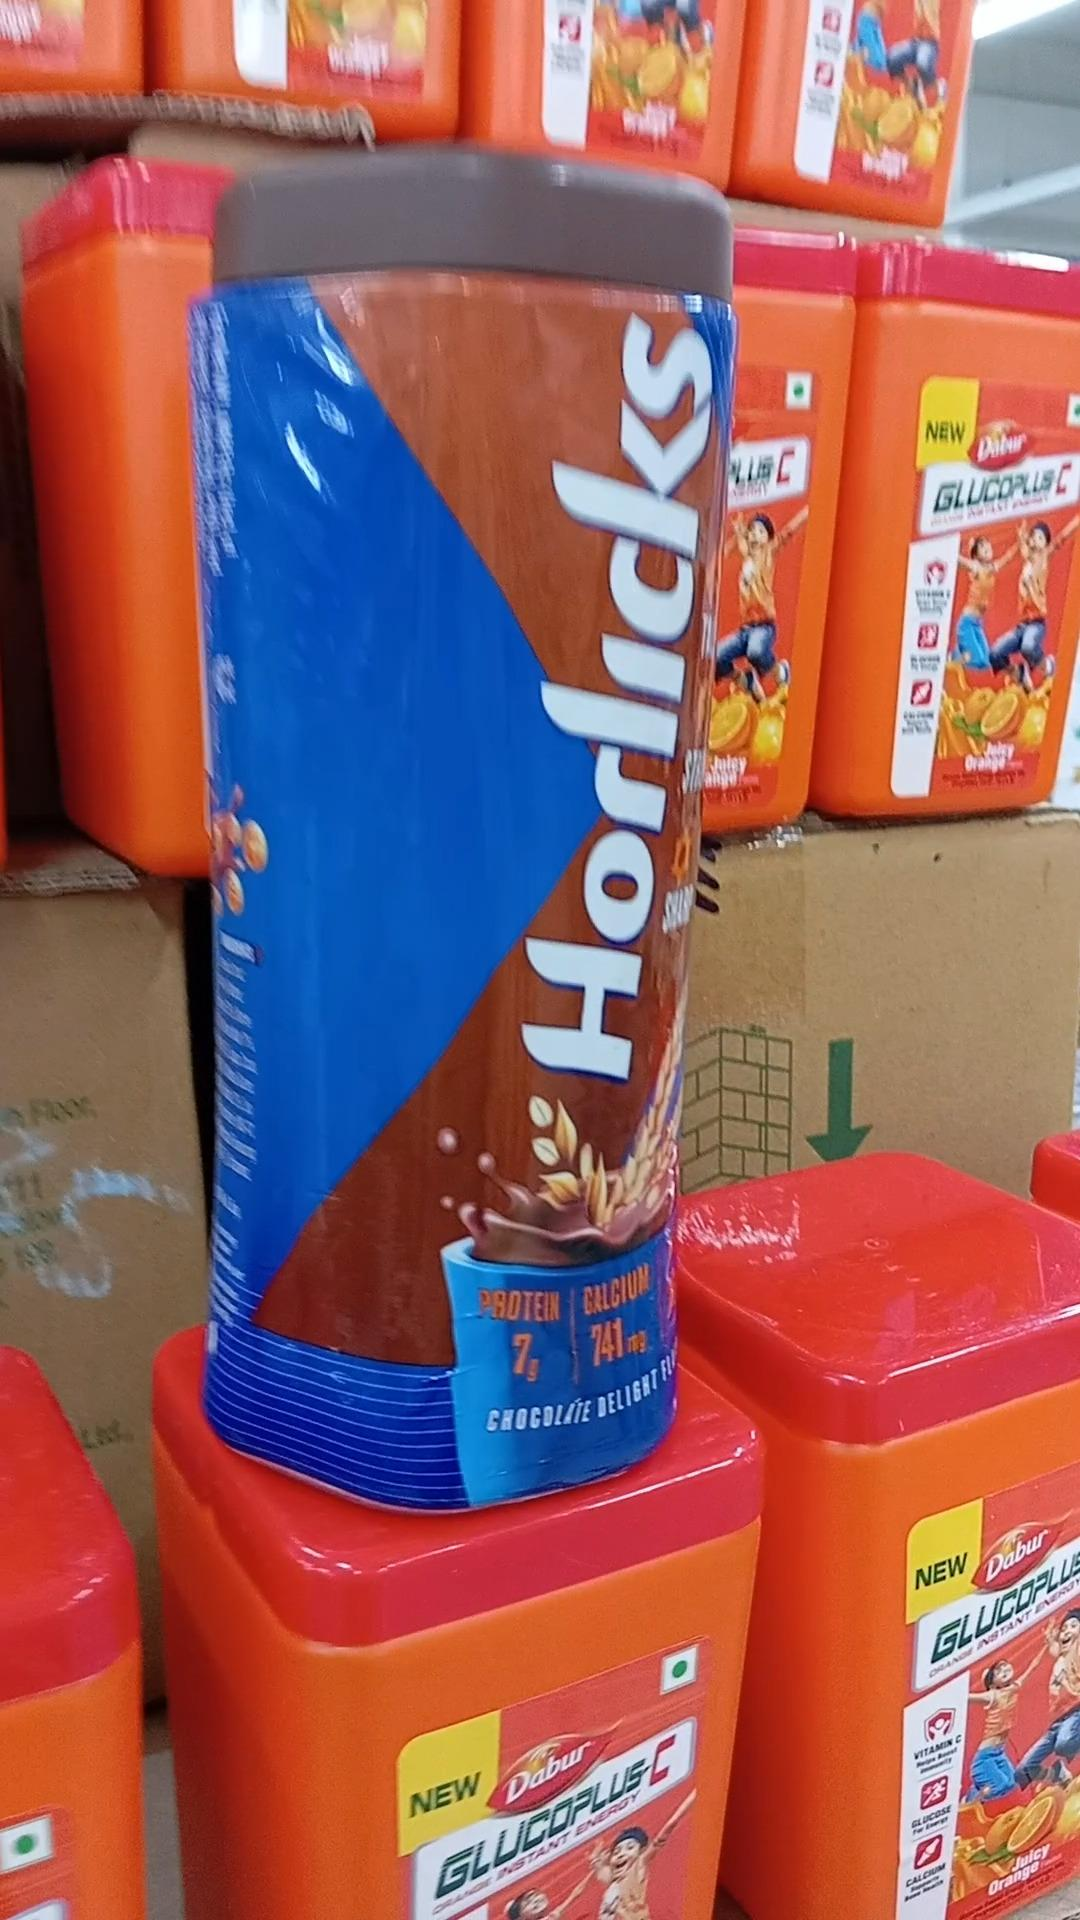HORLICK_CHOCOLATE_1_KG_JAR: (186, 119, 732, 1458)
